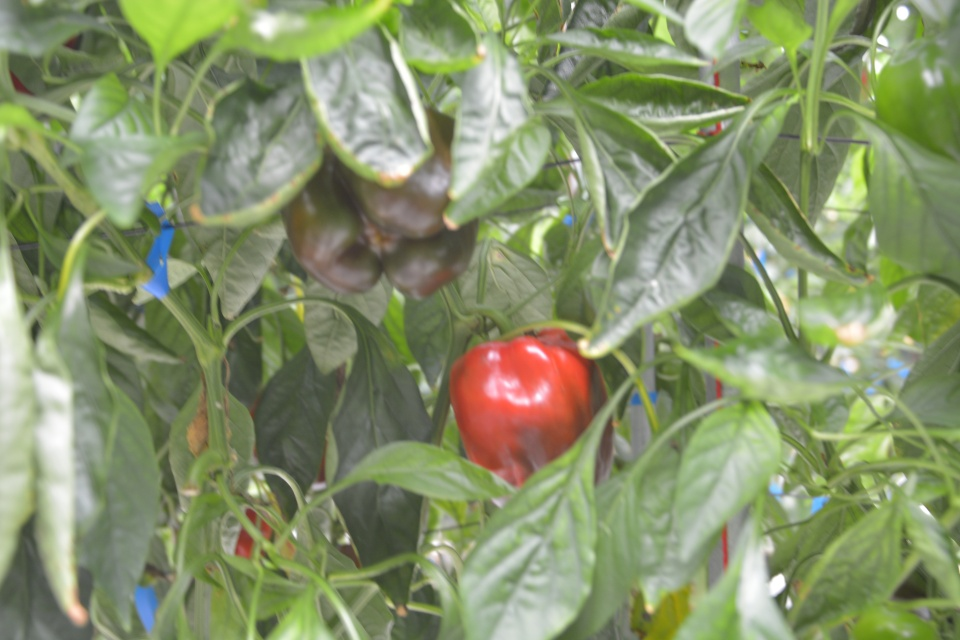fruit: (278, 102, 481, 302), (446, 324, 616, 511), (871, 33, 960, 163), (847, 602, 941, 640)
